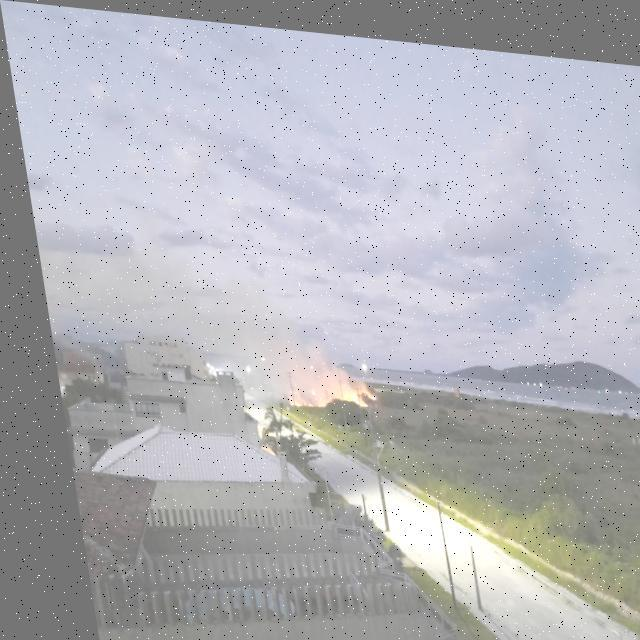Fire: (328, 381, 356, 402), (276, 394, 290, 405), (355, 385, 367, 394)
